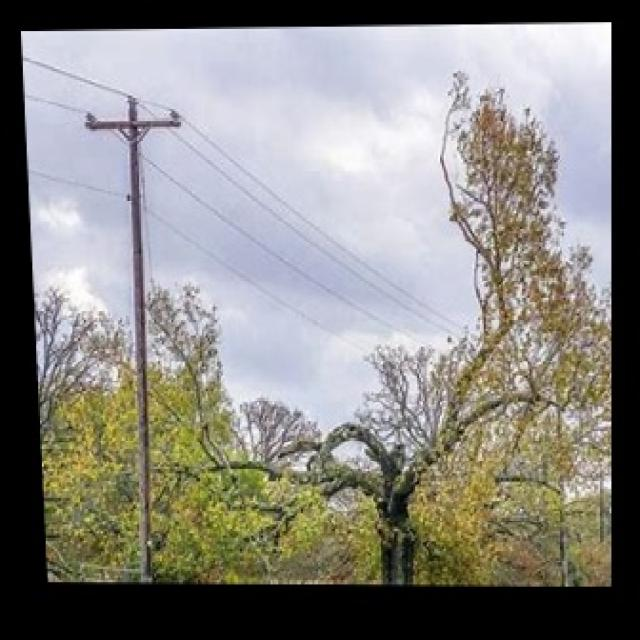utility poles: (82, 90, 207, 578)
